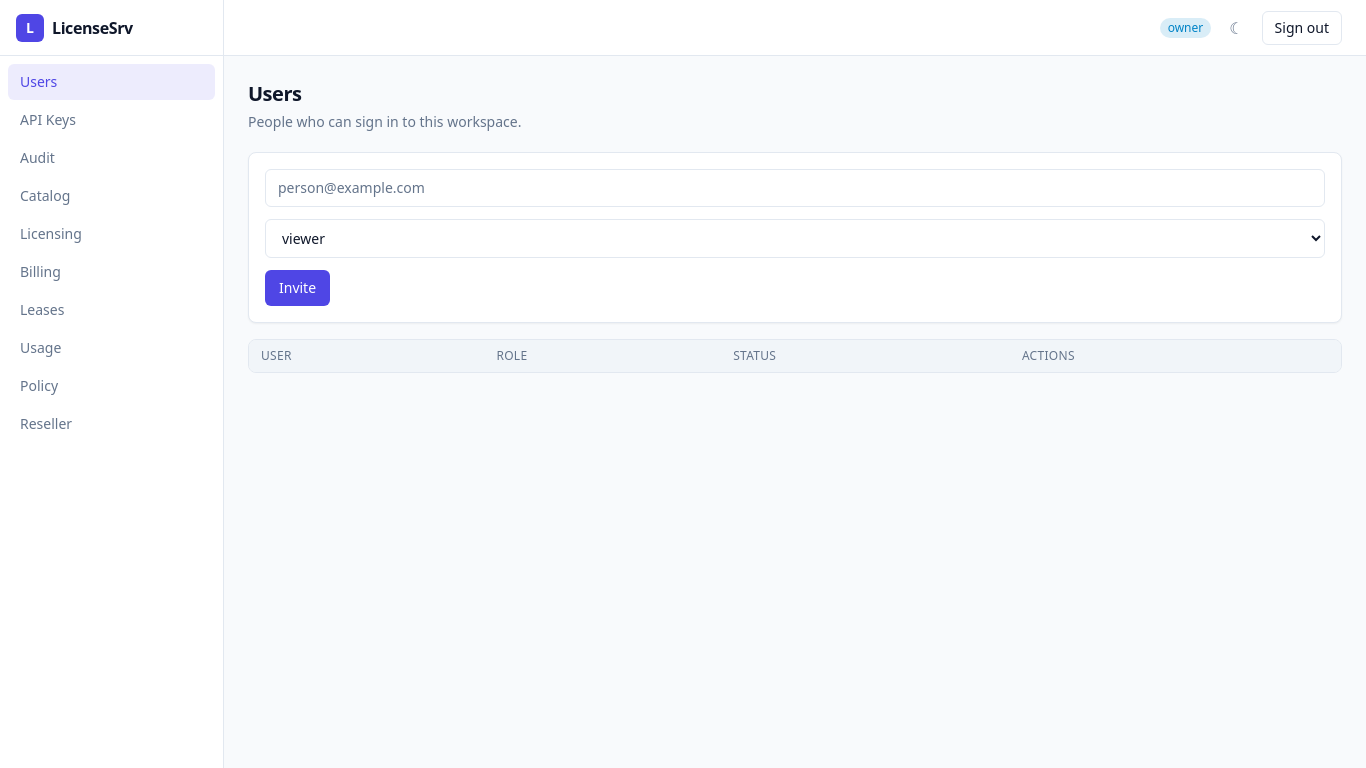
Test case: App › shows the console shell when a session already exists, and returns to login on sign-out
What coordinates should you click on to do the following:
click the button "Sign out"
I would click on:
 (1302, 28)
Its box is [1262,10,1342,44].
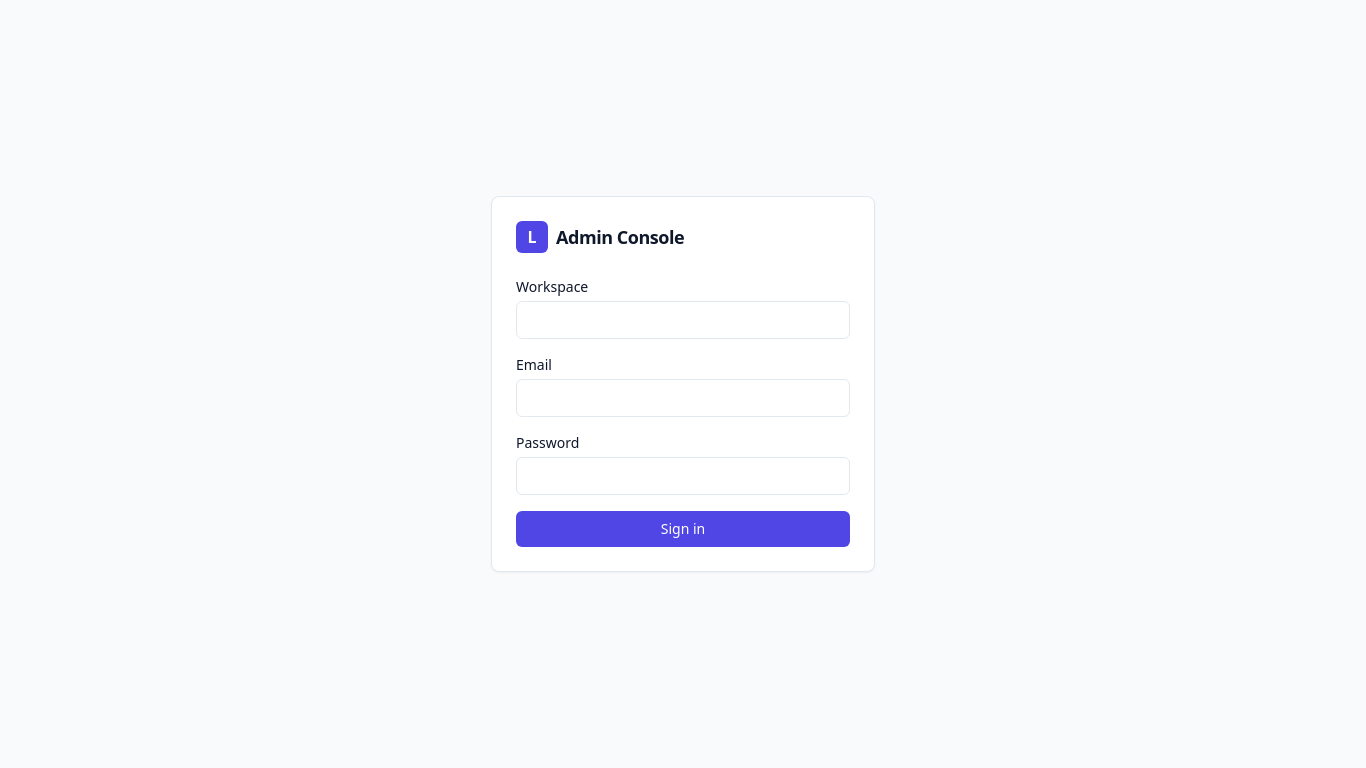
Now the form "Workspace Email Password Sign in" is shown, box [516,277,850,547]
